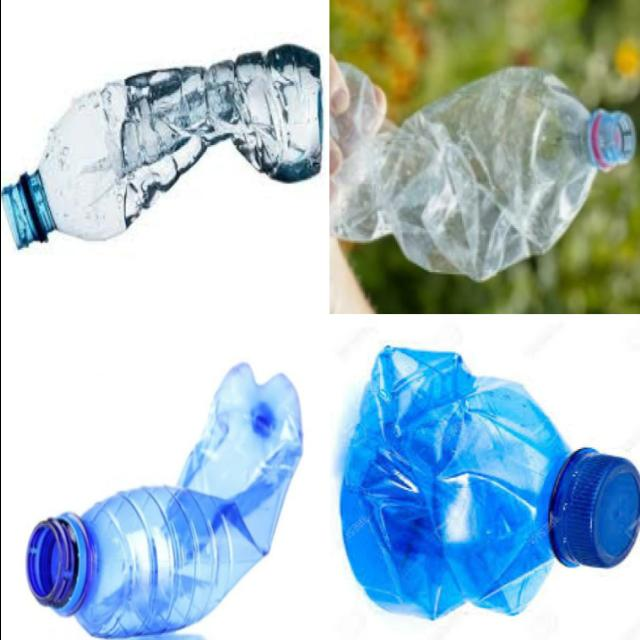plastik: (340, 347, 640, 619), (26, 364, 301, 639), (330, 65, 633, 280), (3, 45, 321, 248)
